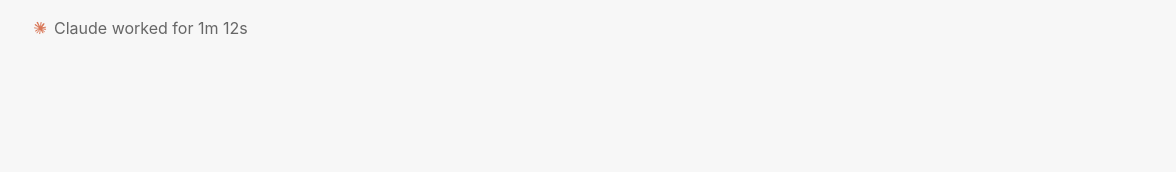
Scenario: fold line (F-36) › labels the finished work and opens its notes and phases
expect the text "Claude worked for 1m 12s" is shown: met, box [54,16,248,40]
Click the button with aria-label "Show the work" at (151, 28), box [12,12,1164,44]
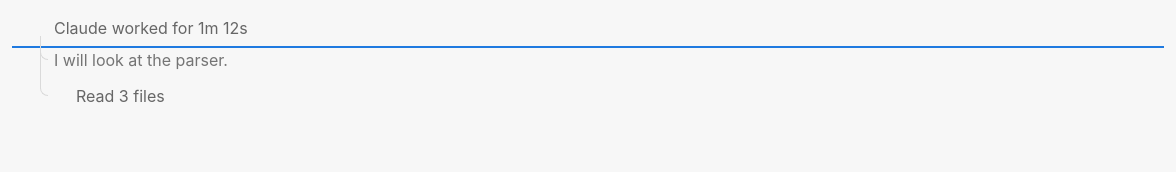
expect the text "I will look at the parser." is shown: met, box [54,50,228,70]
expect the button with aria-label "Hide the work" is expanded: met, box [12,12,1164,44]
